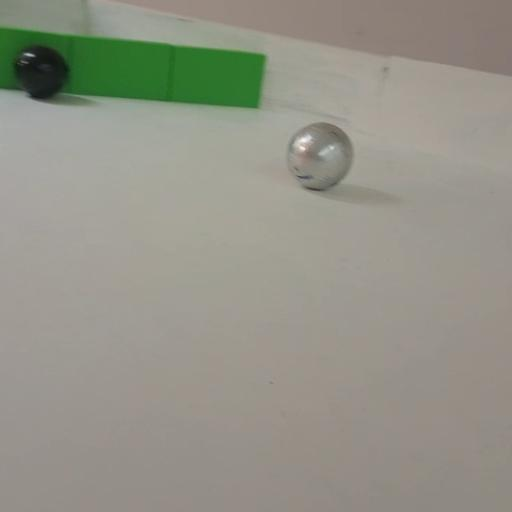alive: (286, 121, 354, 191)
dead: (12, 44, 70, 100)
